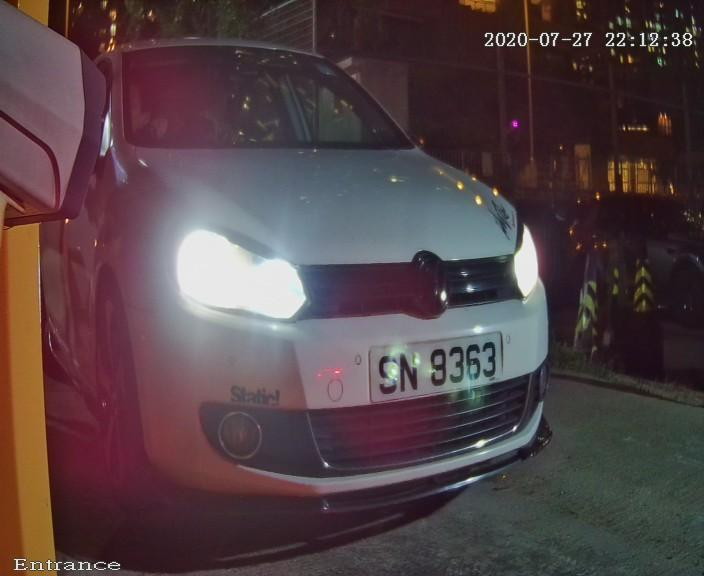privatecar: (51, 6, 591, 574)
